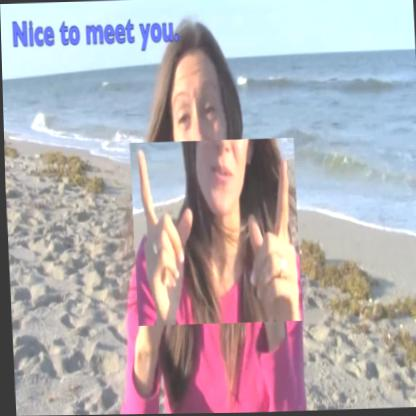NiceToMeetYou: (128, 138, 300, 326)
